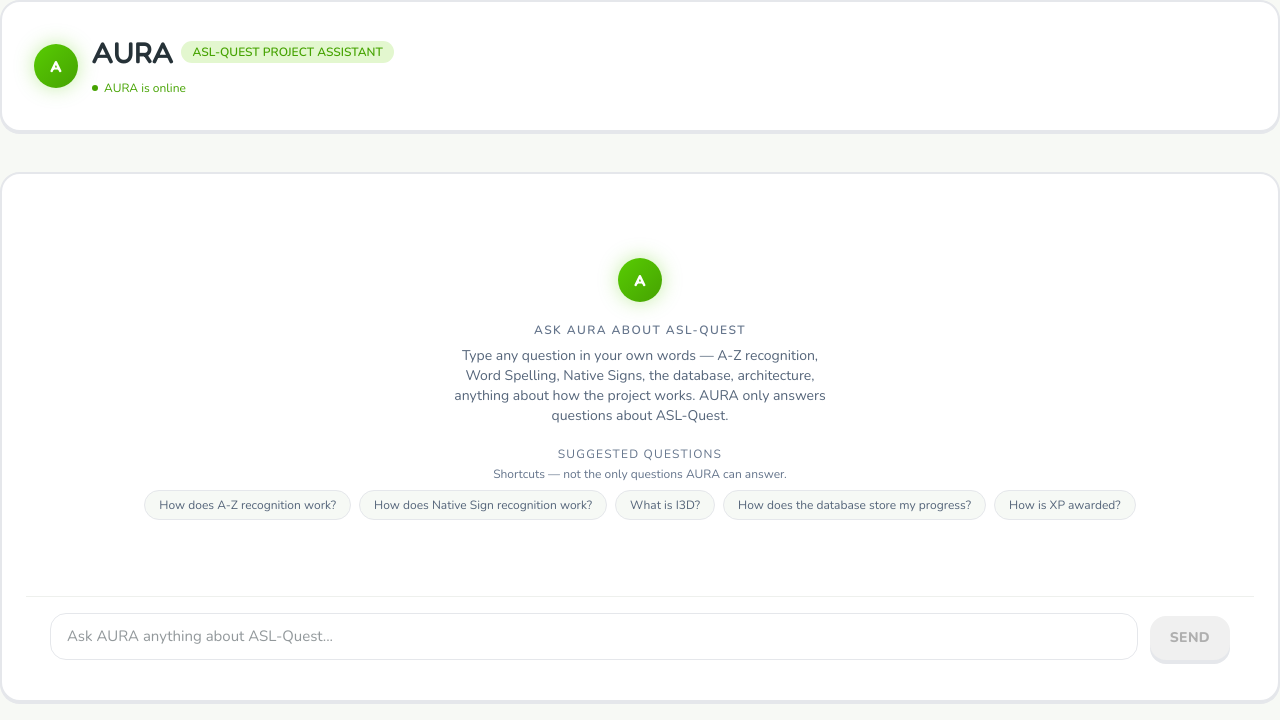
Test: ChatbotPage: arbitrary typed questions › submits manually typed text exactly as typed, not looked up against any fixed list
In the text box named "Message AURA": (594, 636) [50,613,1138,660], type "Why is Native Sign recognition kept separate from A-Z?"
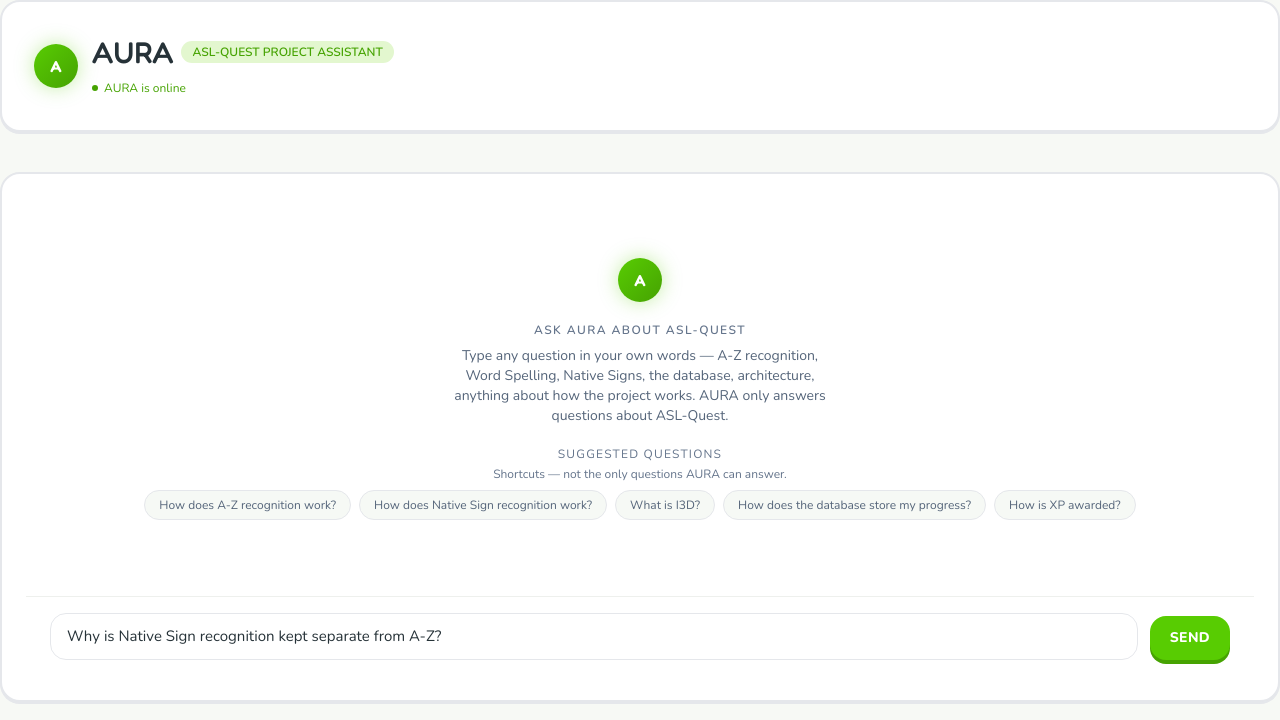
Click the button with aria-label "Send message to AURA": (1190, 638) [1150,616,1230,660]
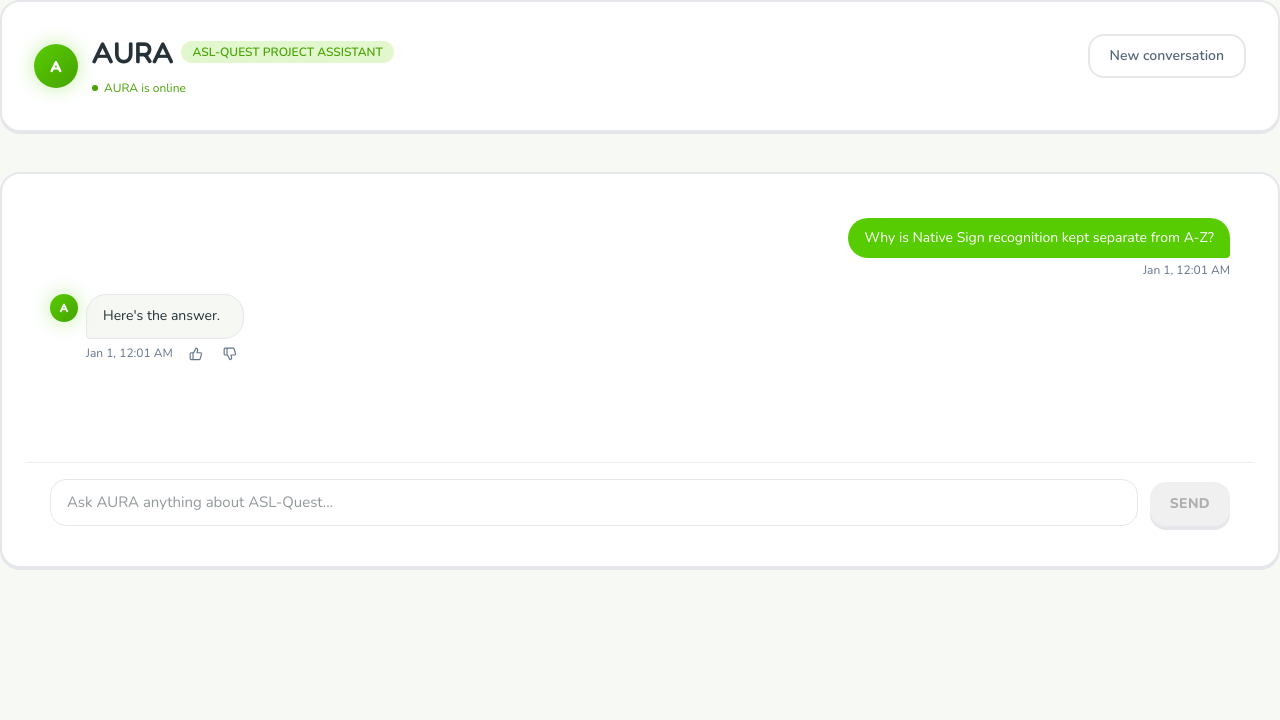
Check: the text "Why is Native Sign recognition kept separate from A-Z?" is shown, box [864,228,1214,248]
